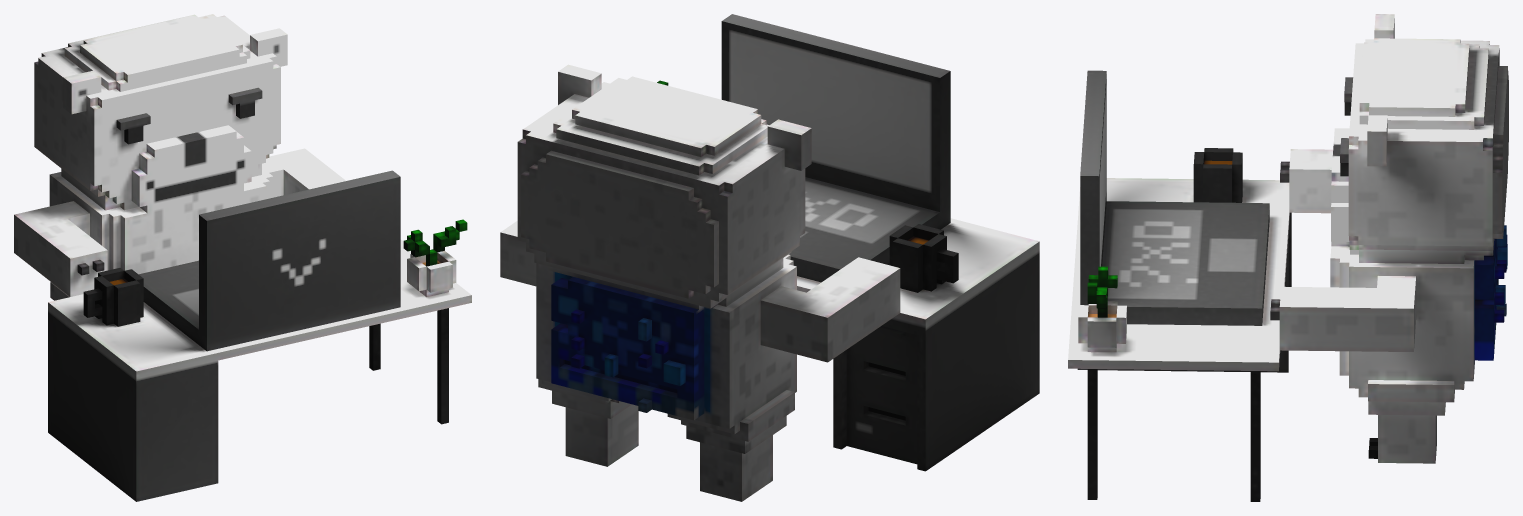
The model's file is bear.glb.
3 views of the same model, side by side, from view 1: azimuth 30°, elevation 25°; view 2: azimuth 150°, elevation 25°; view 3: azimuth 270°, elevation 25° (orthographic). The views are drawn at different scales.
Parts seen in each view (by area): view 1: voxel; view 2: voxel; view 3: voxel.
Part boxes in pixels (x1=…): voxel: x1=14, y1=14, x2=471, y2=501; voxel: x1=500, y1=14, x2=1039, y2=501; voxel: x1=1068, y1=14, x2=1508, y2=501.
Size of what is drawn, in the model's own units: 4.61 by 4 by 4.6.
Materials: 1 (1 with a texture image).
